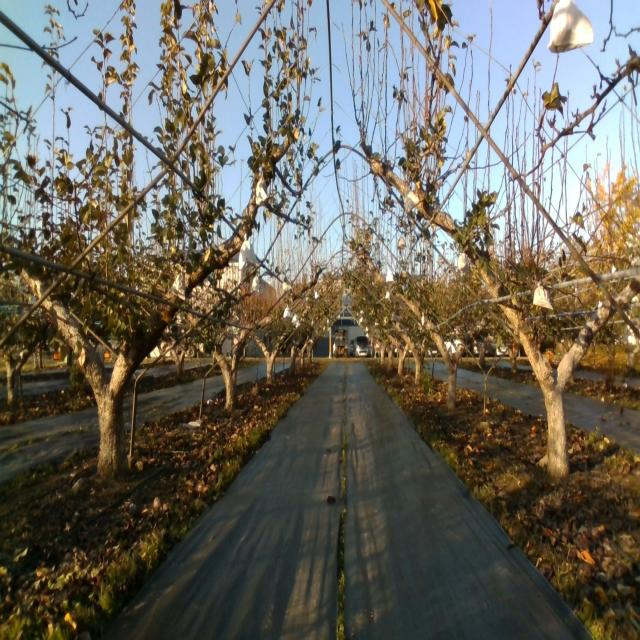pearbags: (545, 0, 595, 55), (532, 280, 554, 312), (238, 234, 257, 270), (170, 271, 188, 302), (254, 172, 269, 205), (402, 192, 420, 214), (457, 250, 469, 271)
